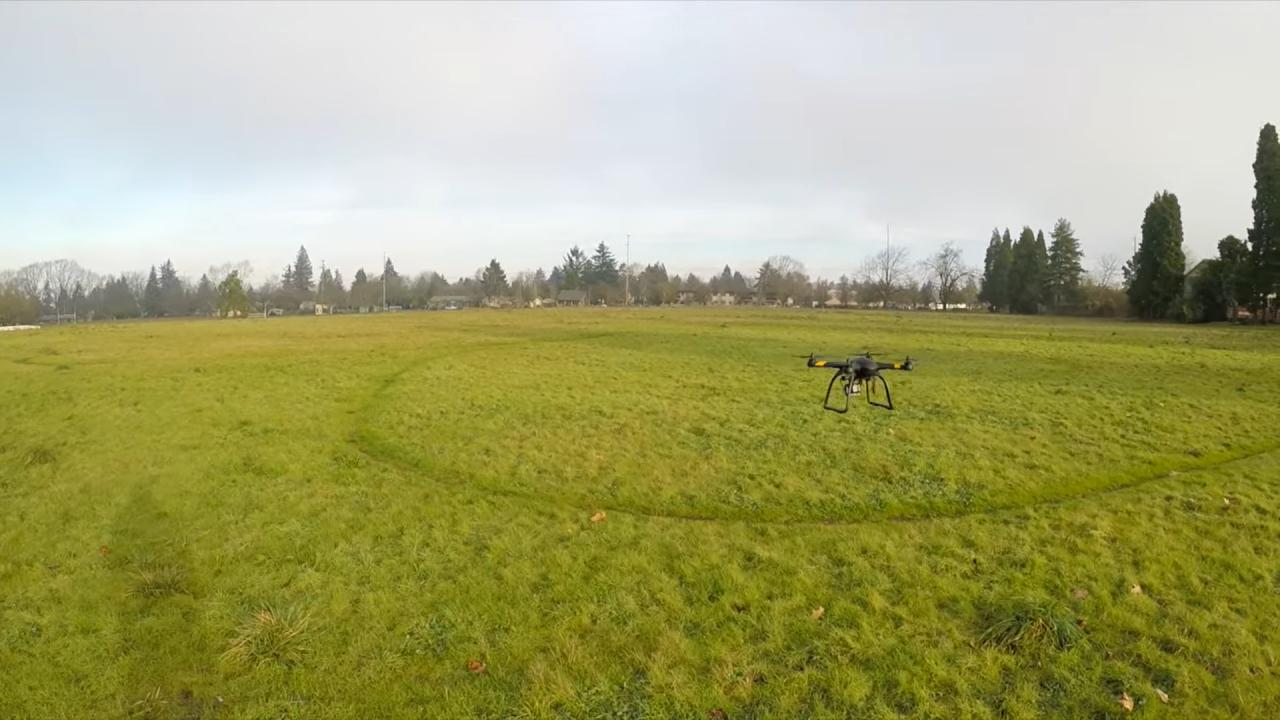Drone: (788, 343, 934, 425)
